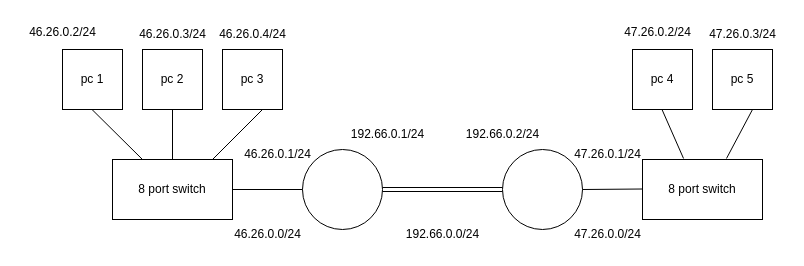
This 804x266 diagram has some shape labels left out. Each missing label, with the centre of its shape:
"router 1" goes at (342,189).
"router 2" goes at (542,189).
